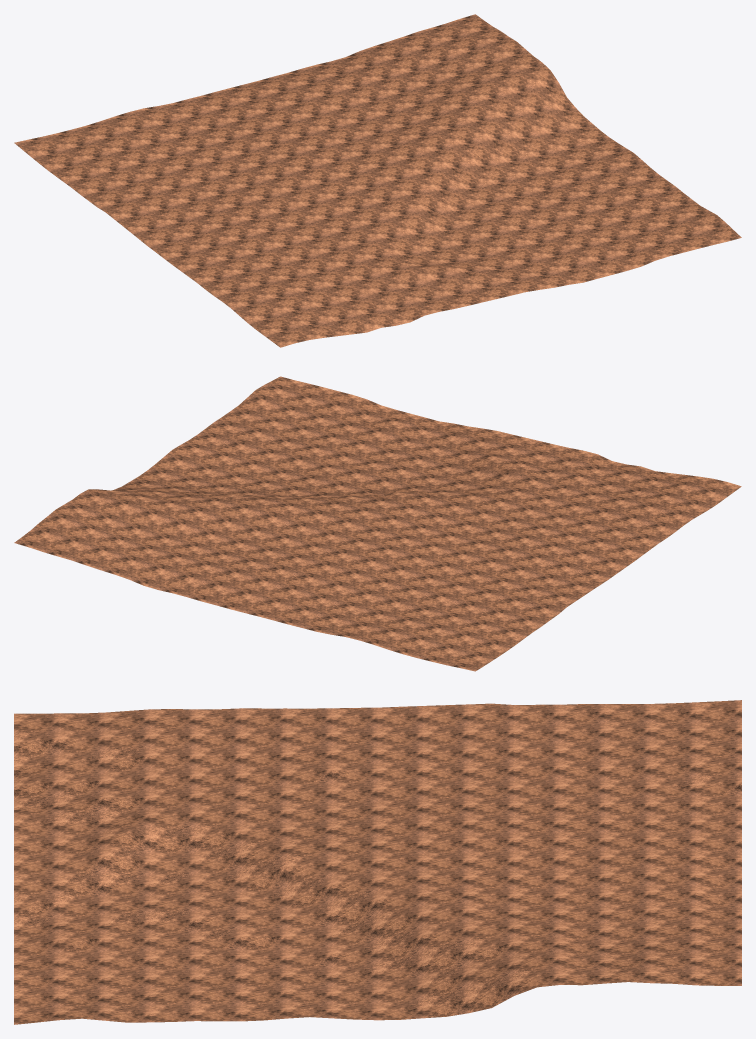
The model's file is terrain_10_17.dae.
3 views of the same model, one above another, from view 1: azimuth 30°, elevation 25°; view 2: azimuth 150°, elevation 25°; view 3: azimuth 270°, elevation 25° (orthographic). The views are drawn at different scales.
Parts seen in each view (by area): view 1: terrain_10_17-node; view 2: terrain_10_17-node; view 3: terrain_10_17-node.
Part boxes in pixels (x1=…): terrain_10_17-node: x1=14, y1=14, x2=741, y2=347; terrain_10_17-node: x1=14, y1=376, x2=741, y2=671; terrain_10_17-node: x1=14, y1=700, x2=741, y2=1024.
Bounding box in the file's own units: 128 × 128 × 9.95.
1 material, 1 textured.
